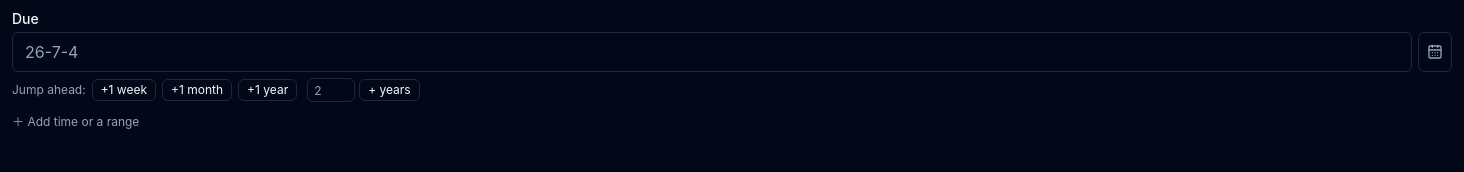
DueFieldset › flags an unparseable start date and keeps the caller uncommitted
Type "whenever" into the field labelled "Due" at (712, 52), box 12,32 -> 1412,72
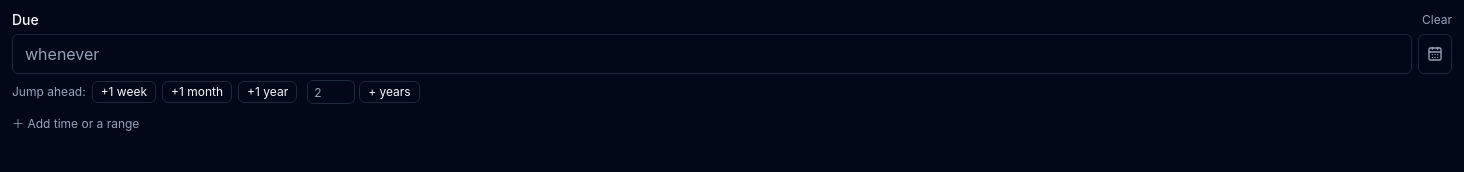
Leave the field labelled "Due", box 12,34 -> 1412,74
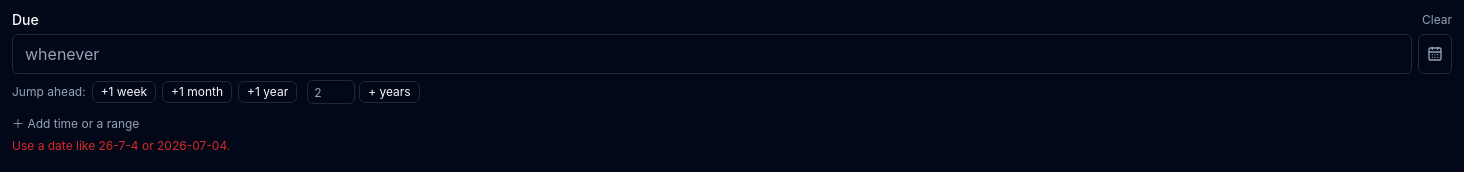
Now the message shows "date like", box 12,138 -> 230,153
